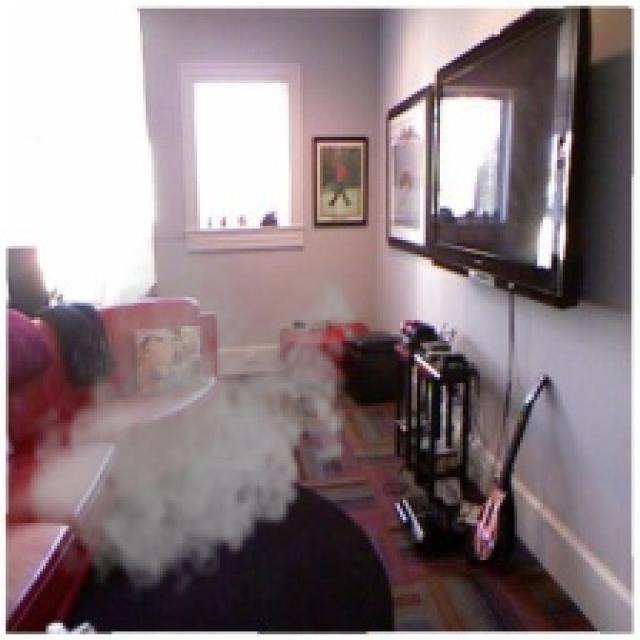Smoke: (20, 237, 369, 603)
